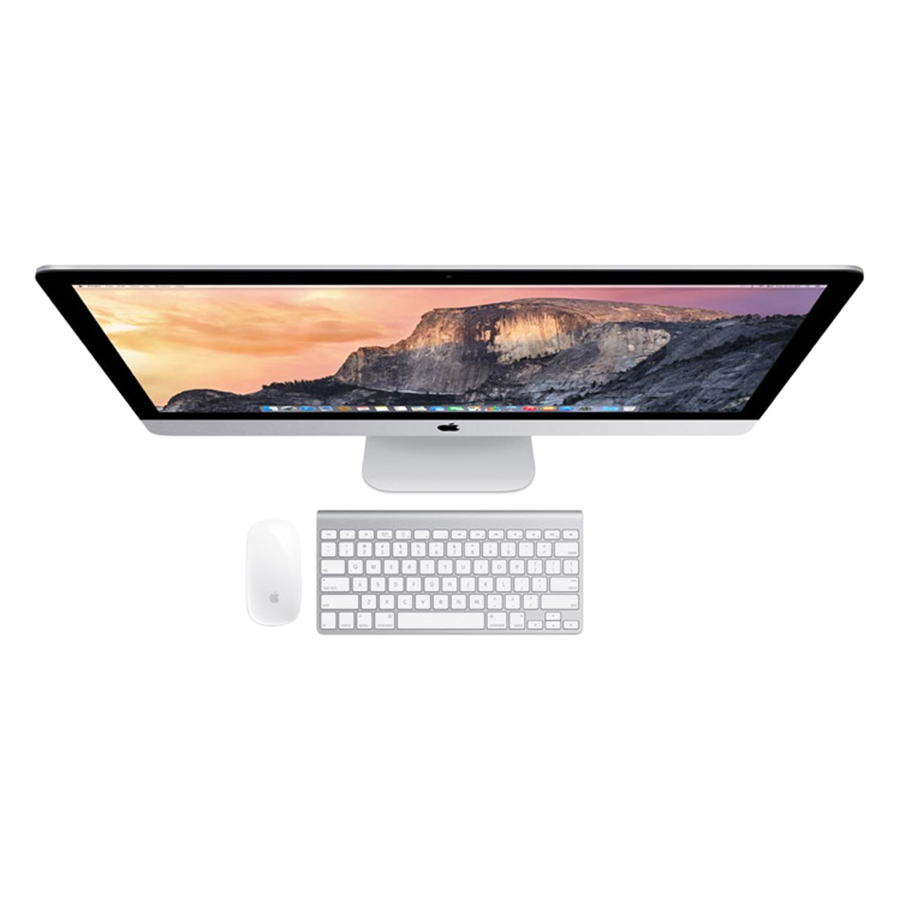Apple: (380, 392, 552, 501), (234, 529, 378, 642)
